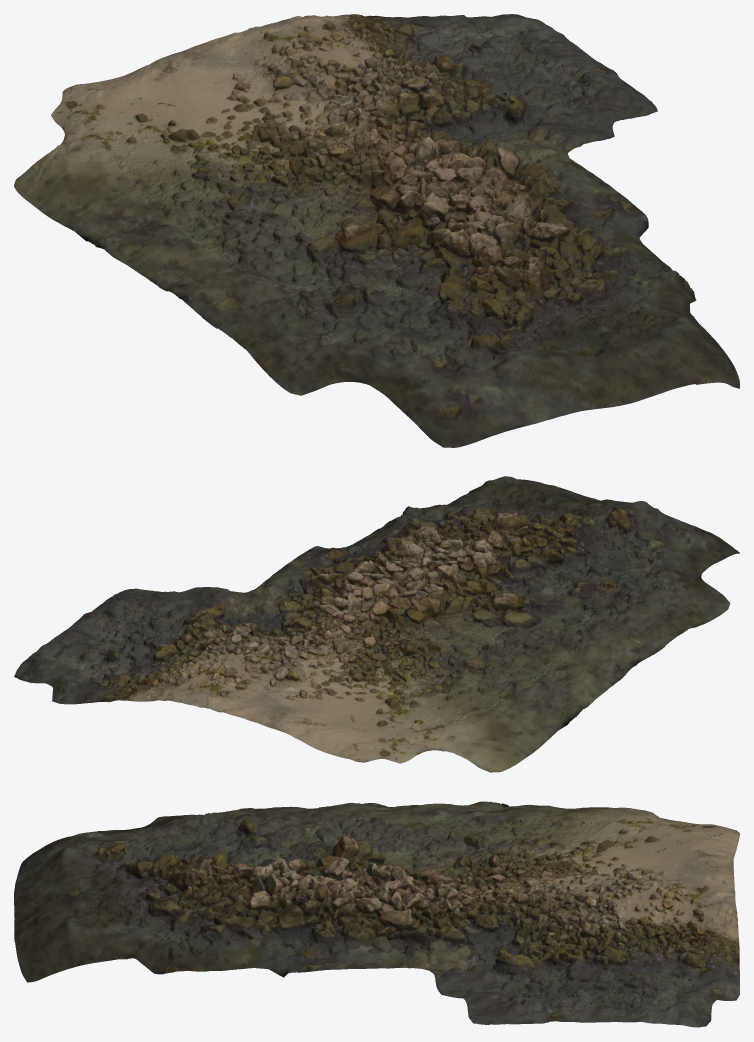
Rendered from polyhaven-coast-rocks-03.glb.
3 renders of one model, top to bottom at view 1: azimuth 30°, elevation 25°; view 2: azimuth 150°, elevation 25°; view 3: azimuth 270°, elevation 25°, orthographic. The views are drawn at different scales.
Visible parts, largest first — view 1: coast_rocks_03; view 2: coast_rocks_03; view 3: coast_rocks_03.
Part boxes in pixels (x1=…): coast_rocks_03: x1=14, y1=14, x2=739, y2=447; coast_rocks_03: x1=14, y1=476, x2=739, y2=772; coast_rocks_03: x1=14, y1=801, x2=739, y2=1027.
Bounding box in the file's own units: 21.12 × 3.2 × 28.27.
1 material, 1 textured.
